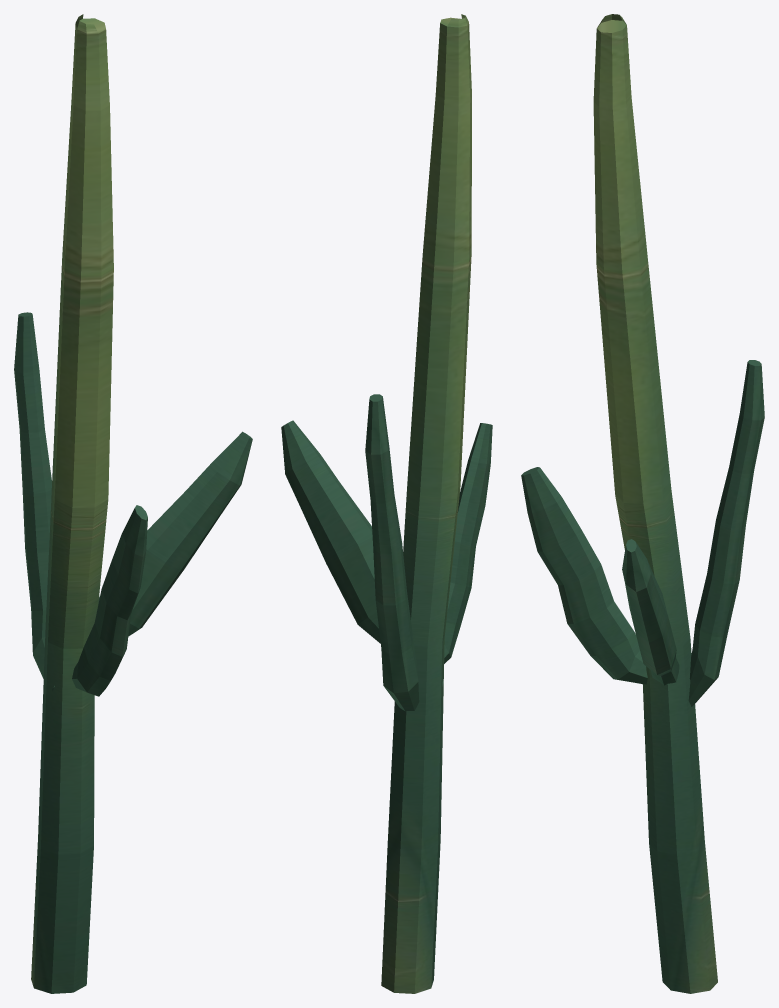
Rendered from cactus_2.fbx.
The picture shows the model from 3 angles, left to right: view 1: azimuth 30°, elevation 25°; view 2: azimuth 150°, elevation 25°; view 3: azimuth 270°, elevation 25°; orthographic projection. The views are drawn at different scales.
Visible parts, largest first — view 1: Cylinder.001; view 2: Cylinder.001; view 3: Cylinder.001.
Part boxes in pixels (left/top/right/bottom): Cylinder.001: left=14, top=14, right=252, bottom=993; Cylinder.001: left=281, top=14, right=492, bottom=993; Cylinder.001: left=521, top=14, right=764, bottom=993.
Bounding box in the file's own units: 52.19 × 258 × 59.34.
